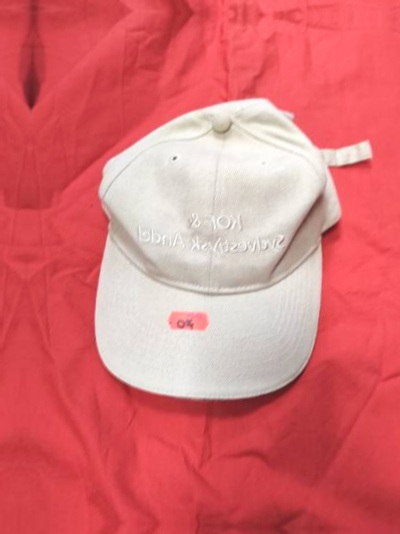Hat: (67, 88, 386, 415)
